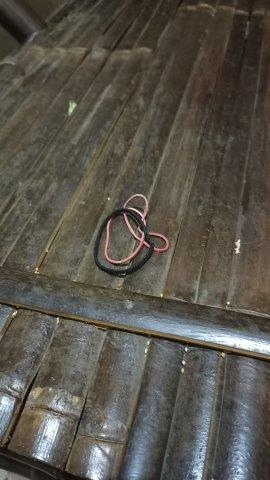karet: (93, 193, 169, 274)
